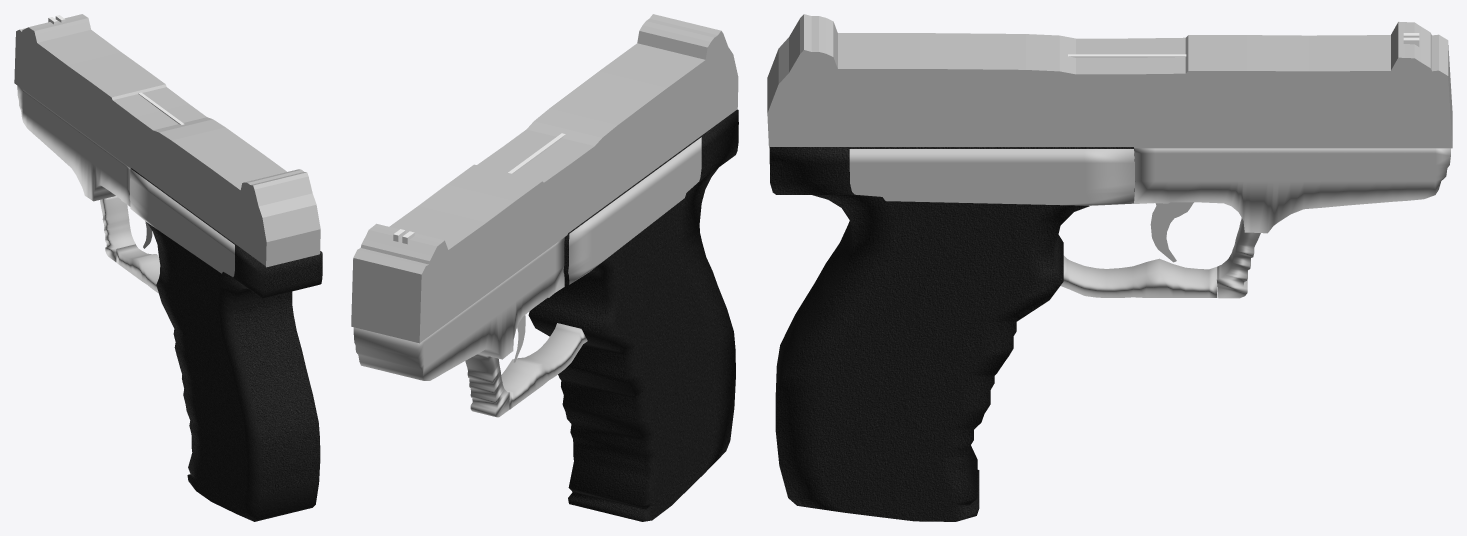
The model's file is gun2.fbx.
3 renders of one model, left to right at view 1: azimuth 30°, elevation 25°; view 2: azimuth 150°, elevation 25°; view 3: azimuth 270°, elevation 25°, orthographic. The views are drawn at different scales.
Parts seen in each view (by area): view 1: pCube2, pCube1, pCube3, pCube4, pCube5; view 2: pCube2, pCube1, pCube3, pCube5, pCube4, Cube; view 3: pCube2, pCube1, pCube3, pCube5, pCube4, pCube6.
Part boxes in pixels (bbox=[...]): pCube2: bbox=[129, 168, 322, 521]; pCube1: bbox=[14, 14, 320, 267]; pCube3: bbox=[17, 86, 130, 206]; pCube4: bbox=[100, 196, 135, 261]; pCube5: bbox=[116, 244, 160, 293]; pCube2: bbox=[528, 109, 738, 521]; pCube1: bbox=[351, 14, 738, 343]; pCube3: bbox=[353, 237, 564, 380]; pCube5: bbox=[501, 323, 587, 409]; pCube4: bbox=[465, 353, 509, 417]; Cube: bbox=[393, 133, 565, 244]; pCube2: bbox=[769, 147, 1134, 521]; pCube1: bbox=[767, 14, 1452, 148]; pCube3: bbox=[1134, 148, 1450, 233]; pCube5: bbox=[1060, 255, 1217, 297]; pCube4: bbox=[1217, 218, 1260, 298]; pCube6: bbox=[1150, 202, 1193, 262].
Size of the model in its own units: 3.6 by 20.53 by 27.11.
